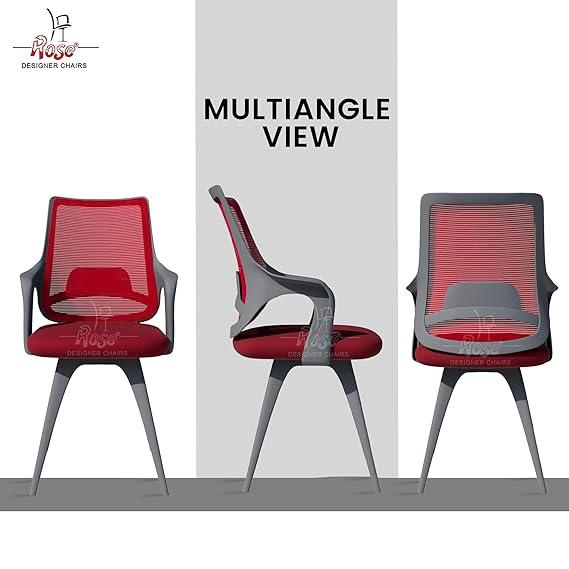chair: (202, 174, 386, 510), (402, 179, 569, 511), (16, 186, 179, 458)
